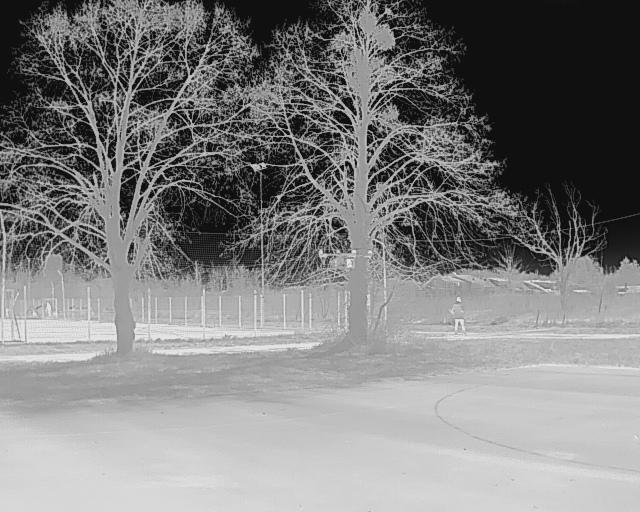drone: (313, 244, 379, 271)
